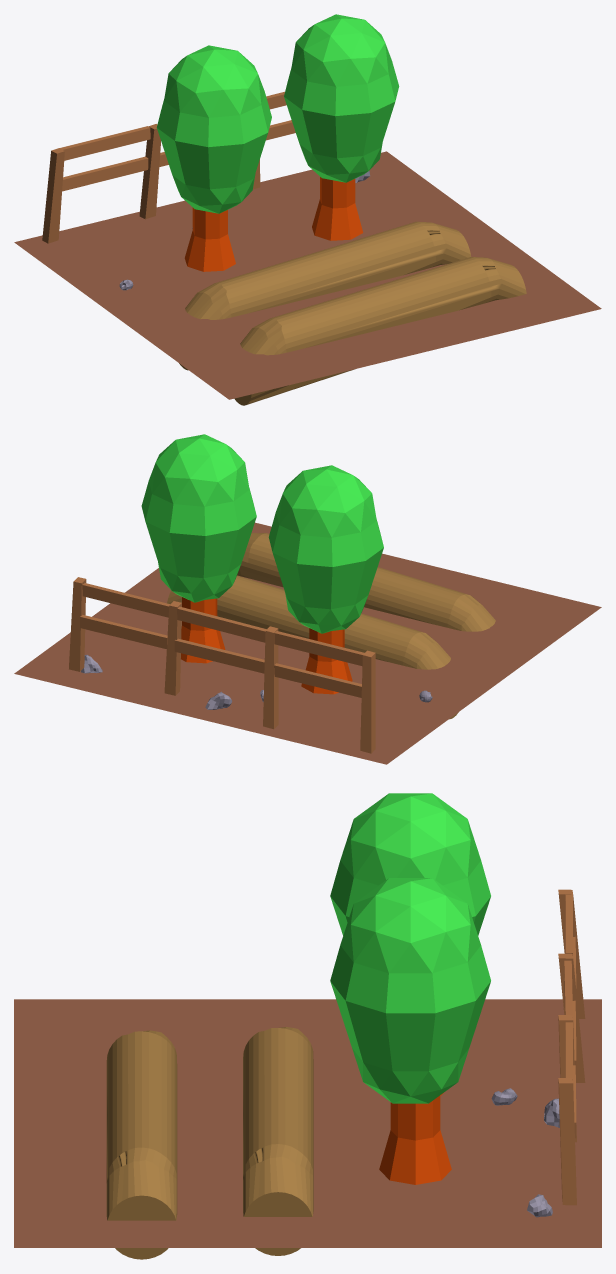
File: brownfieldflat.fbx
The picture shows the model from 3 angles, top to bottom: view 1: azimuth 30°, elevation 25°; view 2: azimuth 150°, elevation 25°; view 3: azimuth 270°, elevation 25°; orthographic projection. The views are drawn at different scales.
Visible parts, largest first — view 1: Cube.033; view 2: Cube.033; view 3: Cube.033.
Boxes of the visible parts, left/top/right/bottom form: Cube.033: left=14, top=14, right=601, bottom=405; Cube.033: left=14, top=434, right=601, bottom=764; Cube.033: left=14, top=793, right=601, bottom=1259.
Size of the model in its own units: 1000 by 678 by 1000.
